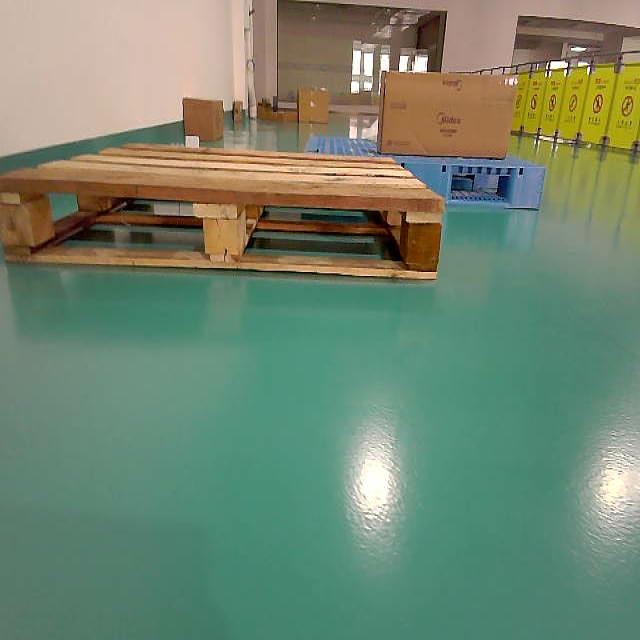euro: (0, 144, 443, 280)
